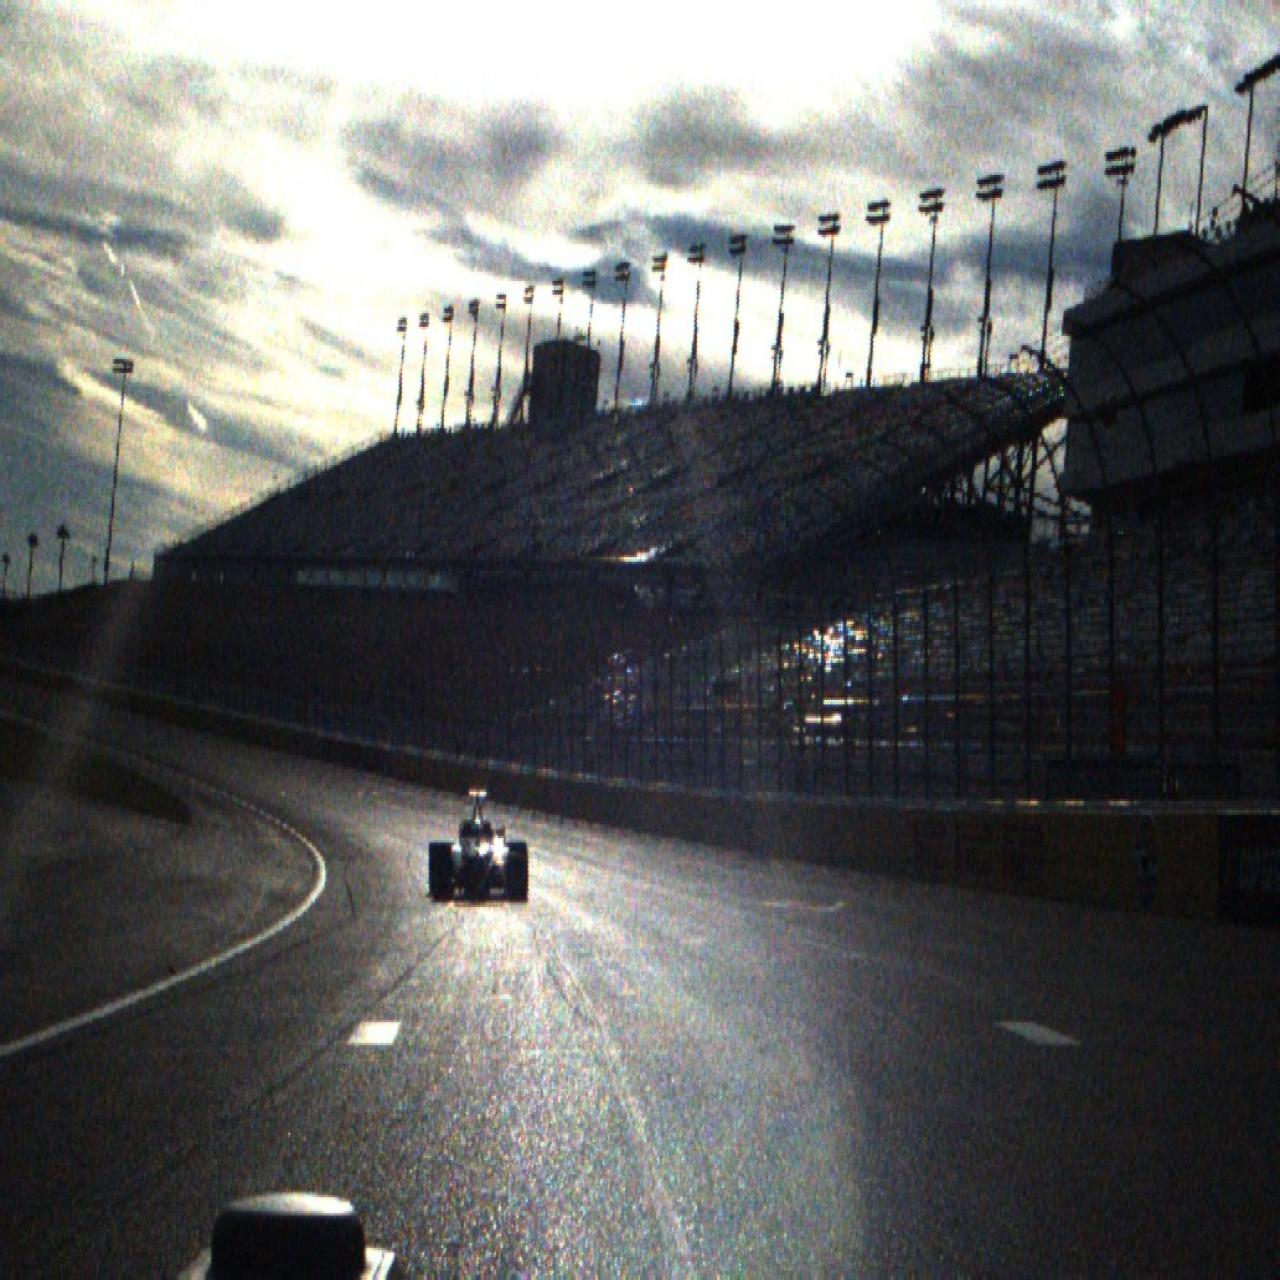AV: (429, 789, 529, 903)
Wheel: (429, 842, 452, 903), (508, 840, 527, 903)
